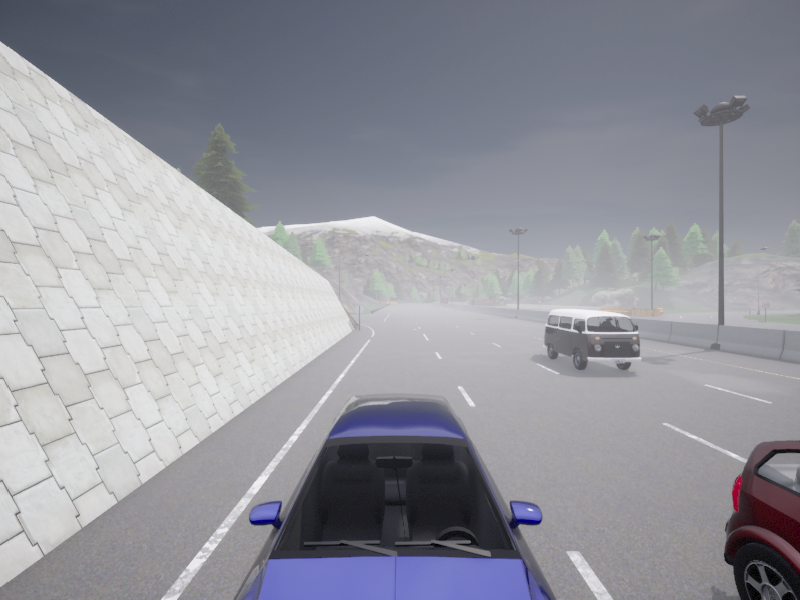vehicle: (233, 393, 556, 599), (724, 440, 799, 599), (543, 309, 640, 369), (441, 297, 447, 303)
